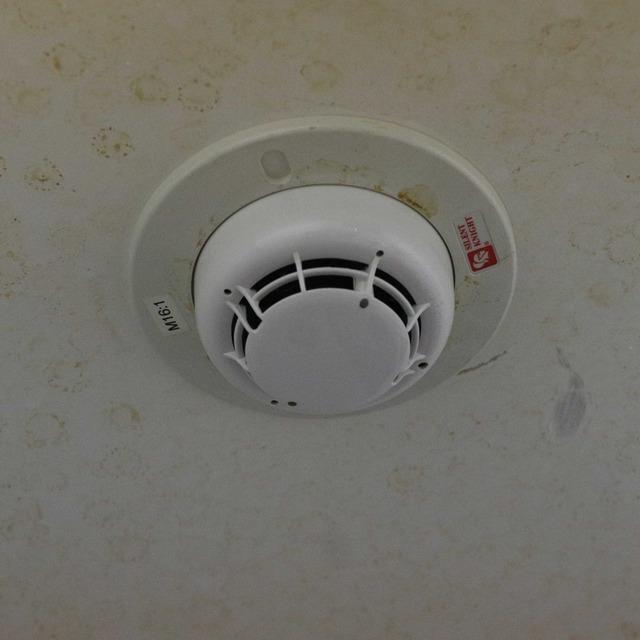Smoke-Detector: (104, 105, 544, 475)
